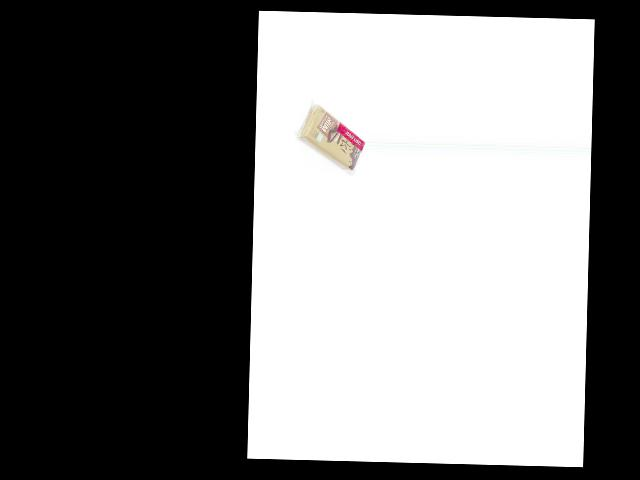chocolate: (296, 96, 365, 171)
